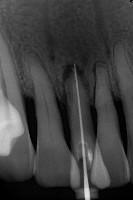Furcation Involvement: (89, 59, 107, 106), (63, 65, 83, 82)
